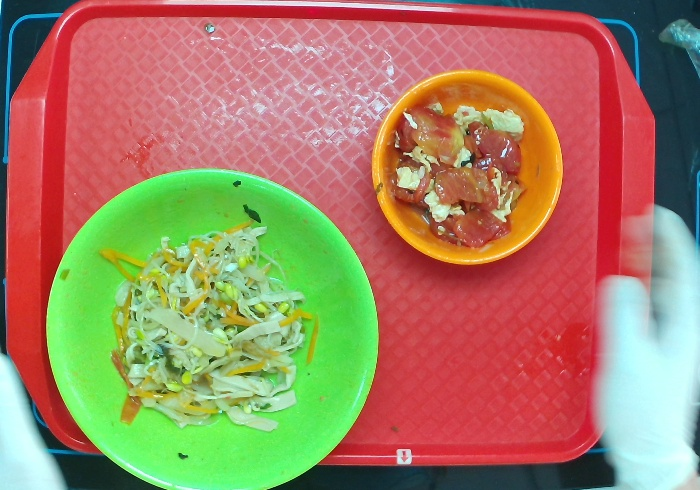YKMZ-Ju_Se_Yuan_Wan: (365, 67, 571, 269)
YKMZ-Lv_Se_Tang_Wan: (37, 166, 381, 490)
